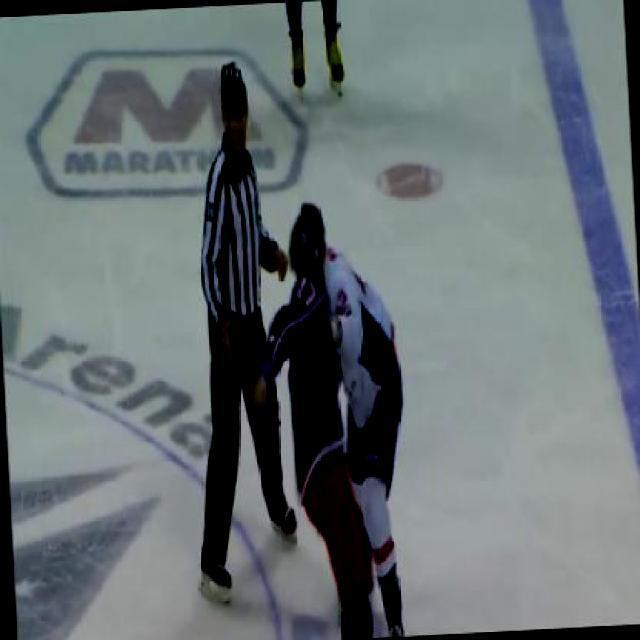fight: (242, 192, 420, 638)
